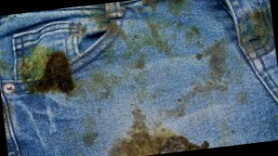earth: (119, 128, 202, 156), (32, 51, 77, 97), (204, 42, 230, 86), (240, 9, 271, 45), (101, 19, 120, 35)
